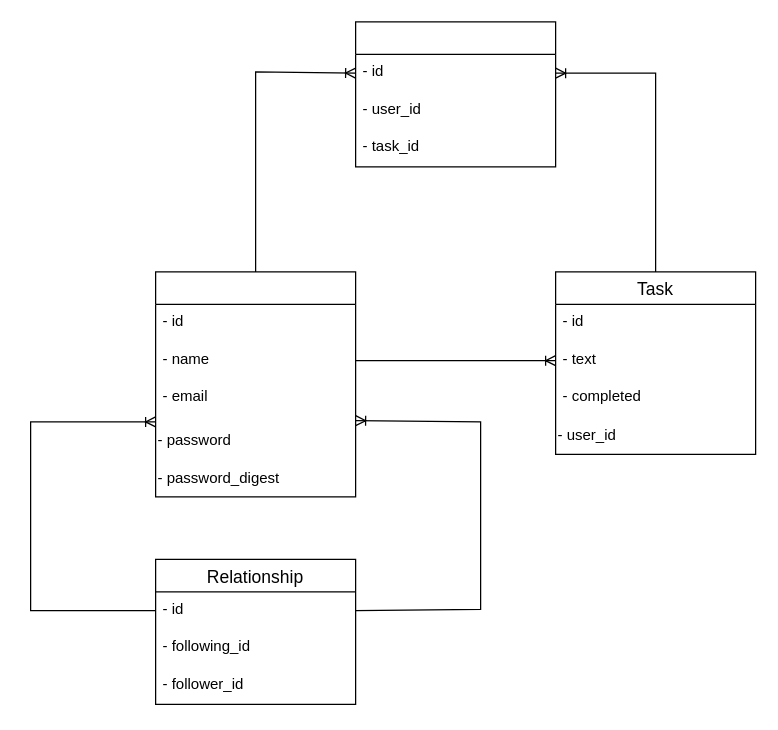
Some shapes in this 778 by 730 pixel diagram are drawn without their labels. Here are the shapes that lost their labels. From the top down, the box of each, then its label:
(354, 21, 556, 167): Favorite
(154, 271, 356, 497): User
